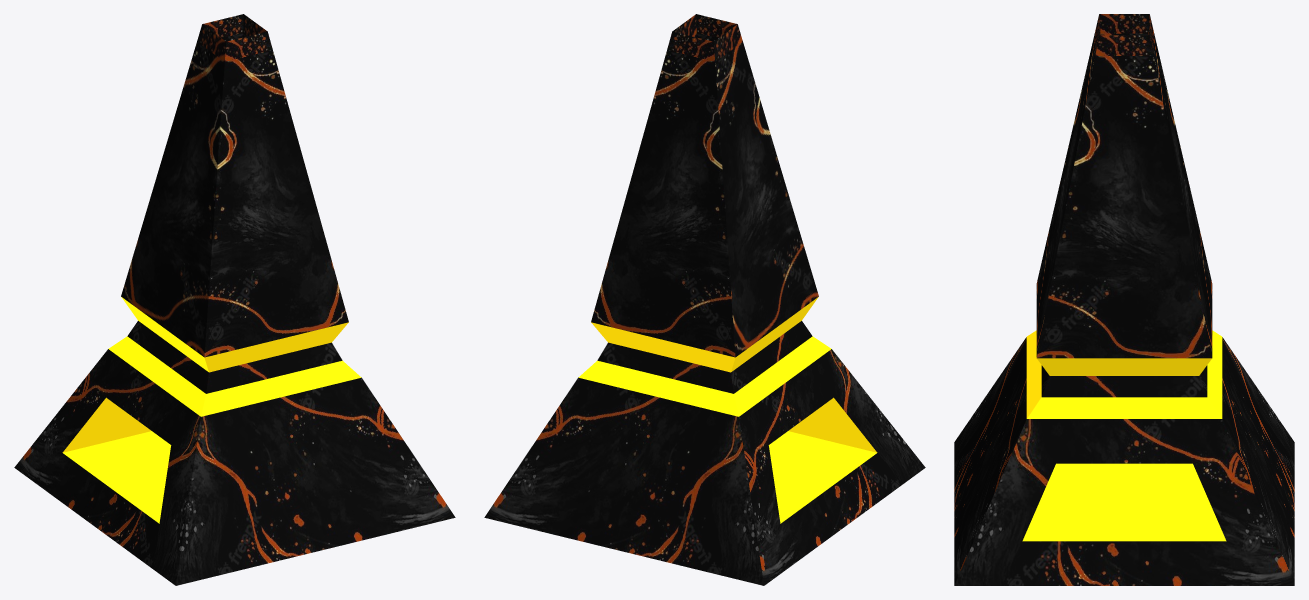
The model's file is track3Building6.glb.
The picture shows the model from 3 angles, left to right: view 1: azimuth 30°, elevation 25°; view 2: azimuth 150°, elevation 25°; view 3: azimuth 270°, elevation 25°; orthographic projection. The views are drawn at different scales.
Parts seen in each view (by area): view 1: track3Building6; view 2: track3Building6; view 3: track3Building6.
Boxes of the visible parts, bbox=[...] form: track3Building6: bbox=[14, 14, 455, 585]; track3Building6: bbox=[484, 14, 925, 585]; track3Building6: bbox=[954, 14, 1294, 585].
Bounding box in the file's own units: 2.56 × 4.06 × 2.56.
2 materials, 1 textured.
